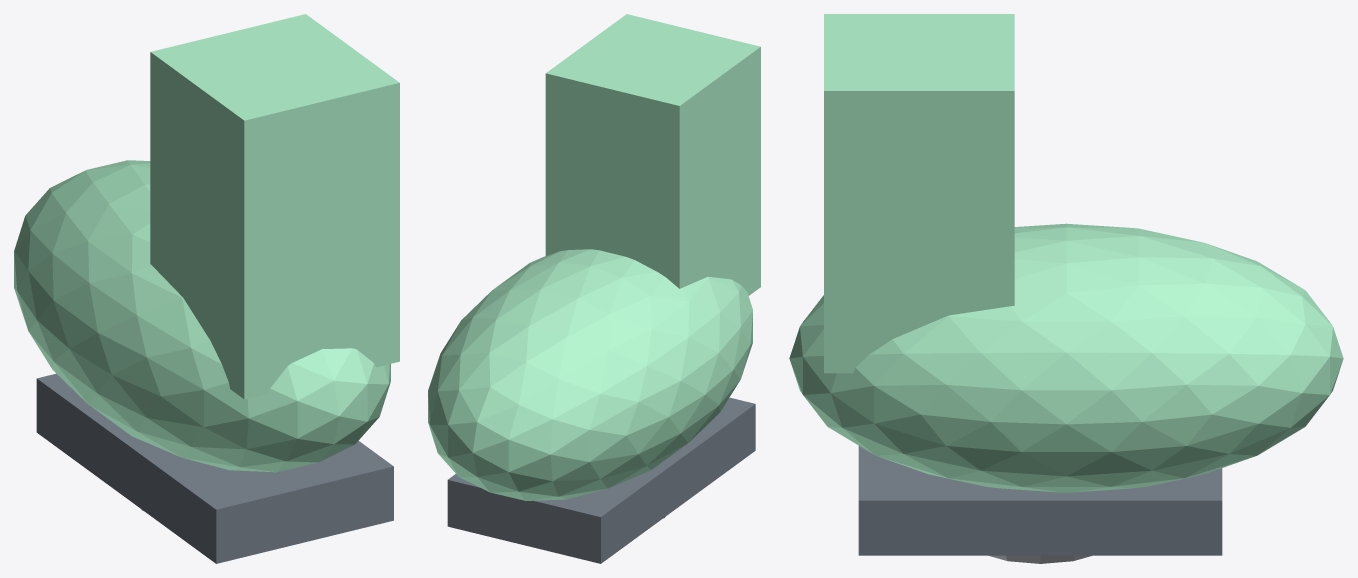
Rendered from botas_ag_1.glb.
The picture shows the model from 3 angles, left to right: view 1: azimuth 30°, elevation 25°; view 2: azimuth 150°, elevation 25°; view 3: azimuth 270°, elevation 25°; orthographic projection. The views are drawn at different scales.
Parts seen in each view (by area): view 1: caña, puntera, suela; view 2: puntera, caña, suela; view 3: puntera, caña, suela.
Part boxes in pixels (x1,y1,x2,y2): caña: [150, 14, 399, 399]; puntera: [14, 160, 390, 472]; suela: [36, 373, 393, 563]; puntera: [428, 249, 752, 500]; caña: [545, 14, 760, 295]; suela: [447, 397, 755, 563]; puntera: [789, 223, 1343, 492]; caña: [824, 14, 1014, 373]; suela: [858, 446, 1222, 555].
Size of the model in its own units: 0.5063 by 0.8516 by 0.9.
